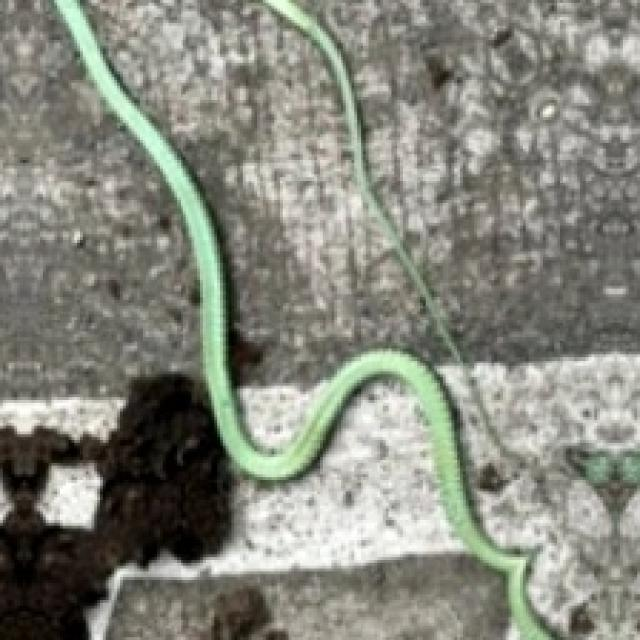philippine bronzeback treesnake: (54, 0, 554, 637), (263, 0, 466, 369)
